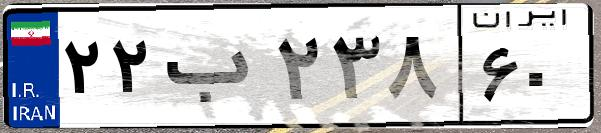0: (525, 38, 570, 115)
2: (270, 28, 330, 110), (57, 26, 110, 100), (110, 28, 158, 98)
3: (330, 28, 385, 110)
6: (475, 38, 525, 113)
8: (385, 28, 445, 110)
ب: (158, 20, 270, 120)
